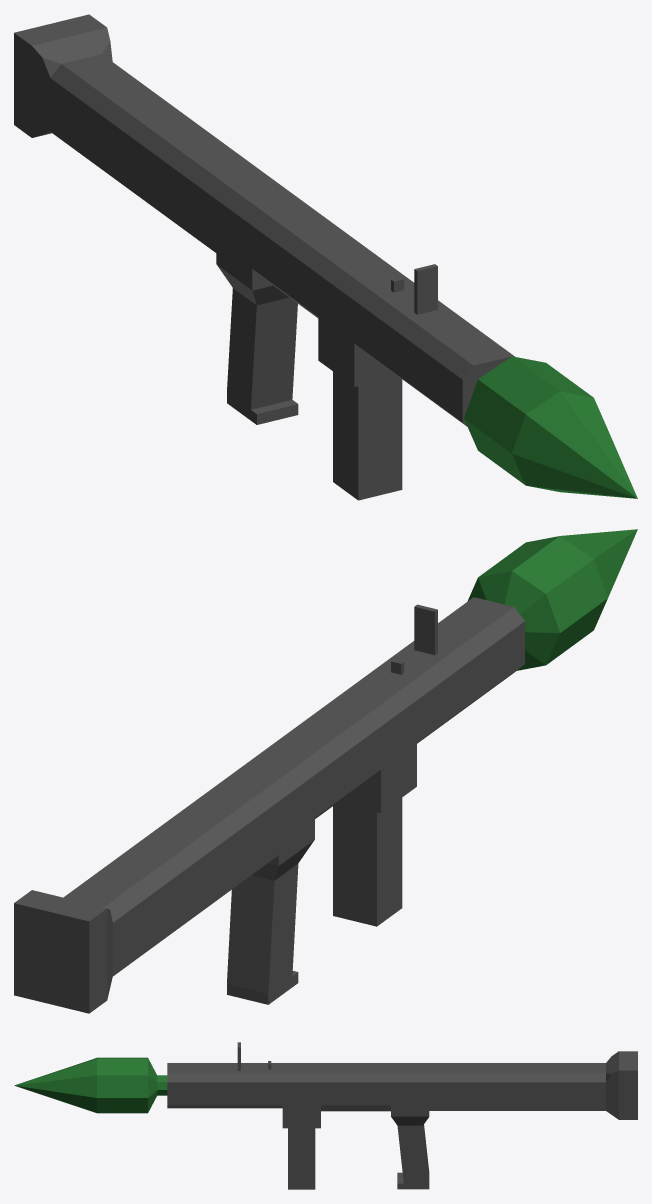
Rendered from Missile Launcher.fbx.
3 renders of one model, top to bottom at view 1: azimuth 30°, elevation 25°; view 2: azimuth 150°, elevation 25°; view 3: azimuth 270°, elevation 25°, orthographic. The views are drawn at different scales.
Parts seen in each view (by area): view 1: Missile Launcher, Missle; view 2: Missile Launcher, Missle; view 3: Missile Launcher, Missle.
Part boxes in pixels (x1,y1,x2,y2): Missile Launcher: [14, 14, 514, 500]; Missle: [464, 356, 637, 498]; Missile Launcher: [14, 597, 524, 1013]; Missle: [467, 529, 637, 670]; Missile Launcher: [167, 1042, 637, 1189]; Missle: [14, 1057, 167, 1113].
Size of the model in its own units: 0.0927 by 0.24 by 0.9772.
